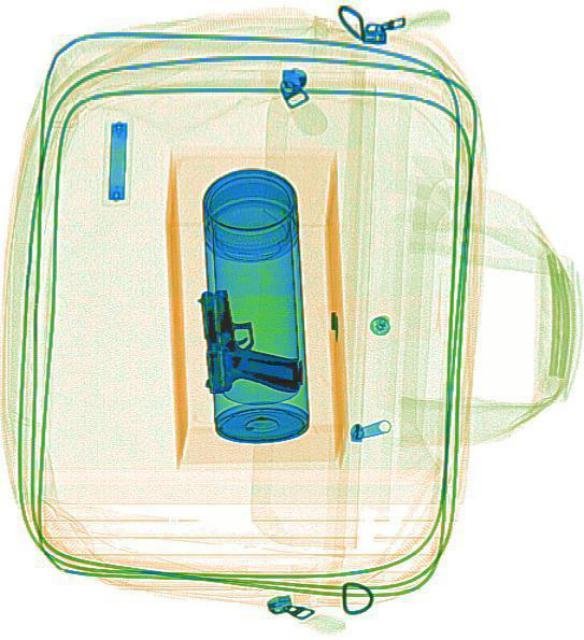Gun: (190, 276, 302, 402)
